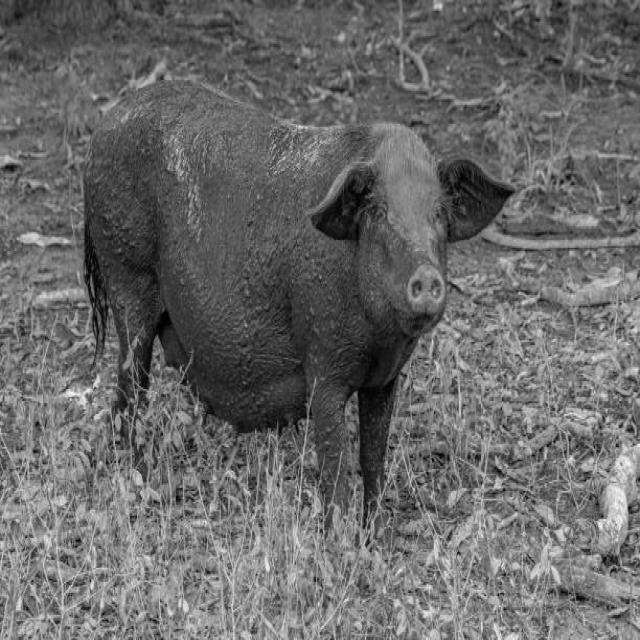boar: (84, 82, 513, 520)
